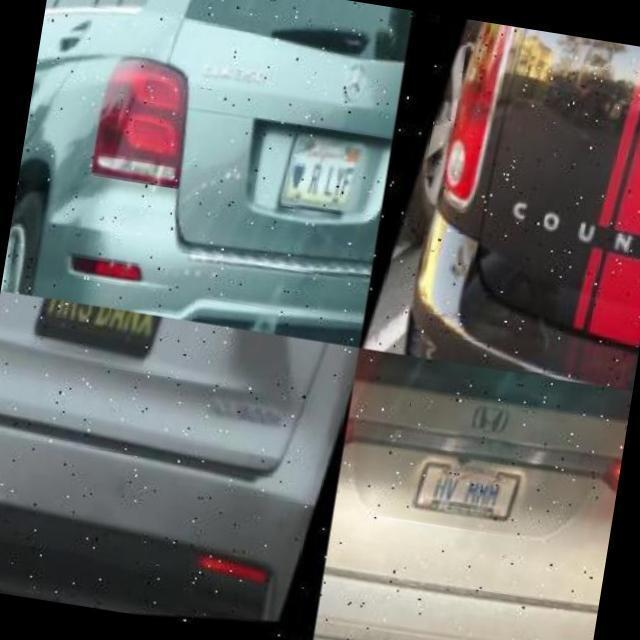license_plate: (35, 298, 177, 386), (279, 129, 377, 231), (413, 466, 527, 530)
